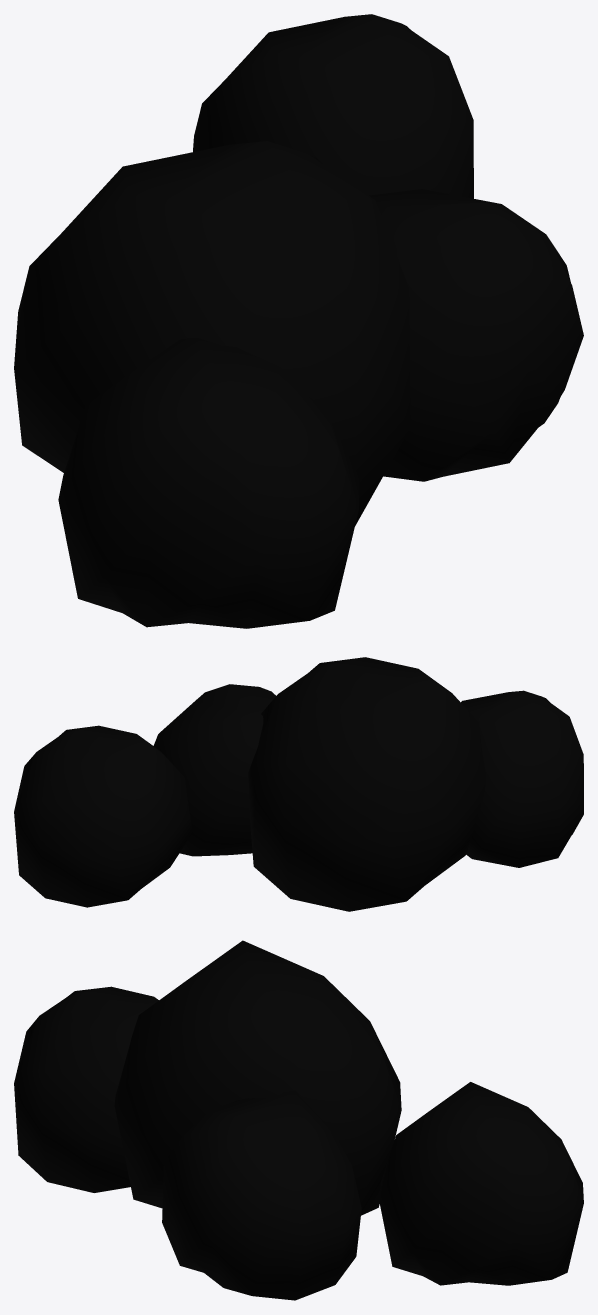
Rendered from Bush.fbx.
The picture shows the model from 3 angles, top to bottom: view 1: azimuth 30°, elevation 25°; view 2: azimuth 150°, elevation 25°; view 3: azimuth 270°, elevation 25°; orthographic projection. The views are drawn at different scales.
Parts seen in each view (by area): view 1: Cube.024, Cube.023; view 2: Cube.024, Cube.023; view 3: Cube.024, Cube.023.
Boxes of the visible parts, bbox=[...] form: Cube.024: bbox=[14, 141, 583, 628]; Cube.023: bbox=[193, 14, 473, 198]; Cube.024: bbox=[153, 657, 583, 911]; Cube.023: bbox=[14, 725, 192, 907]; Cube.024: bbox=[14, 940, 401, 1300]; Cube.023: bbox=[379, 1082, 583, 1285].
Size of the model in its own units: 397 by 198 by 449.
